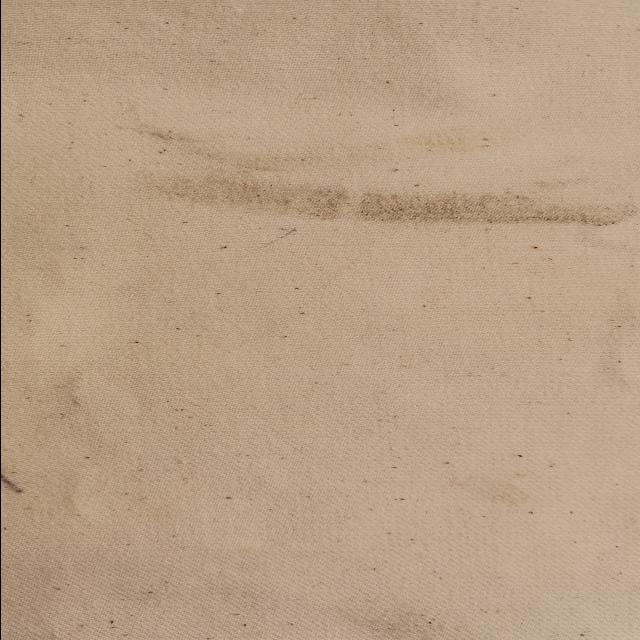taaaches: (114, 131, 624, 261), (0, 468, 37, 496)
